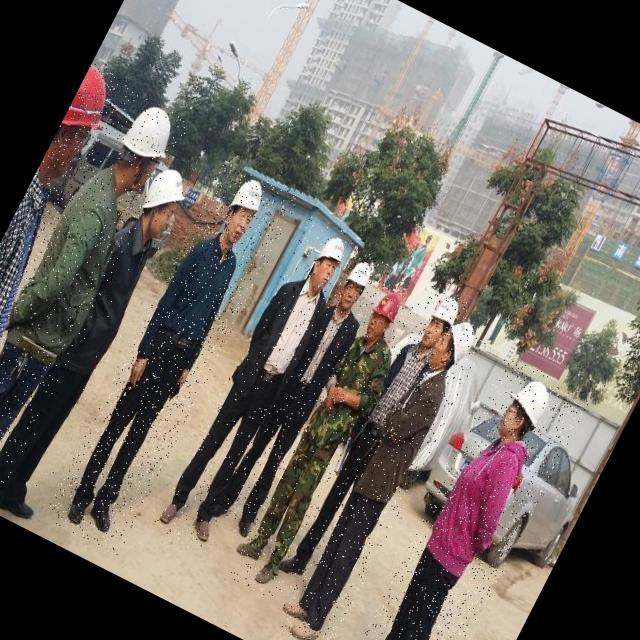hard_hat: (60, 65, 128, 145), (118, 98, 184, 166), (497, 372, 558, 434), (139, 165, 195, 225), (436, 316, 483, 371), (229, 176, 272, 222), (314, 232, 352, 274), (430, 292, 465, 328), (342, 260, 376, 296), (372, 290, 406, 326)
vehicle: (44, 161, 300, 556), (0, 87, 190, 512), (0, 152, 205, 529), (337, 353, 592, 640), (150, 215, 362, 556), (278, 309, 490, 640), (227, 281, 429, 603), (277, 283, 472, 603), (0, 59, 135, 480), (218, 246, 392, 532)
work_boots: (83, 502, 119, 537), (0, 491, 38, 524), (252, 553, 284, 590), (234, 532, 268, 564), (278, 550, 311, 582), (64, 496, 94, 528), (188, 514, 218, 544), (288, 616, 324, 640), (280, 598, 312, 624), (158, 500, 182, 527), (232, 515, 256, 541), (210, 501, 232, 523)
